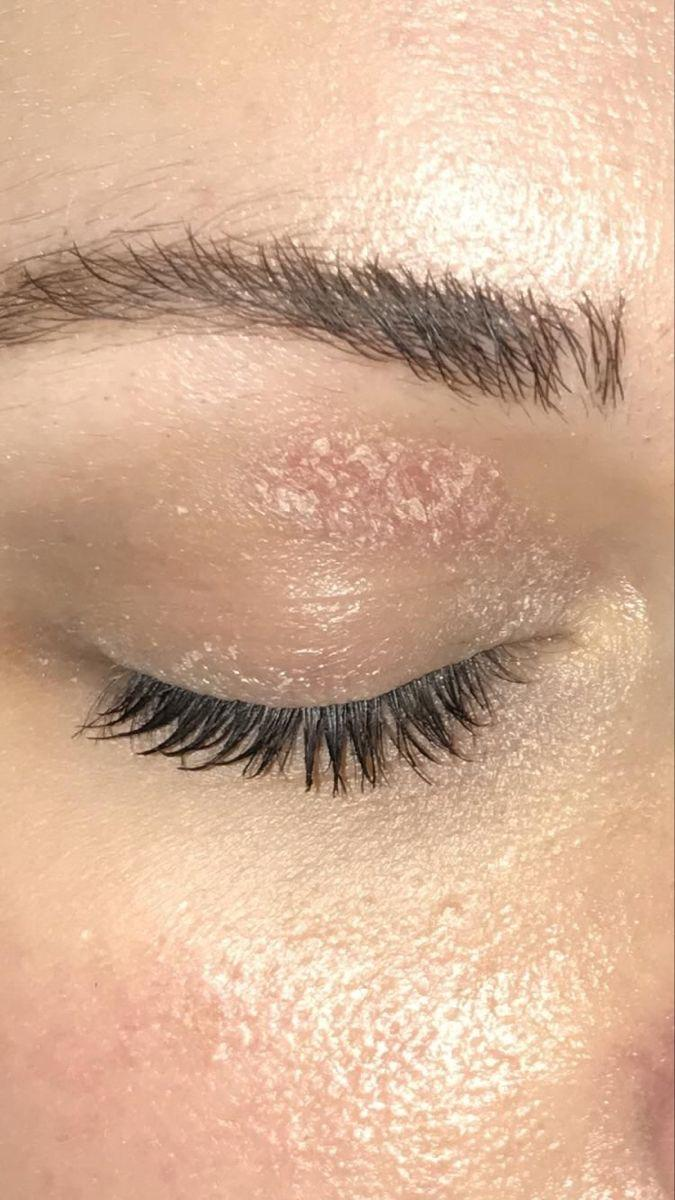Oily-Skin: (63, 833, 617, 1190), (133, 20, 647, 200)
